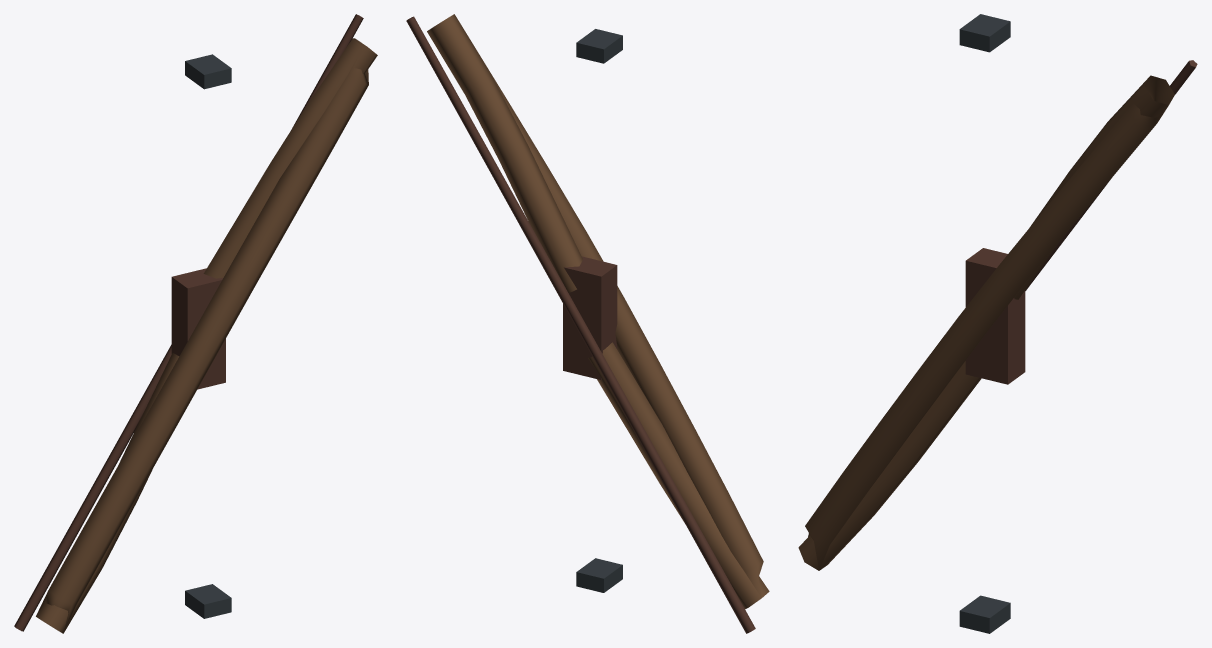
File: longbow.glb
3 views of the same model, side by side, from view 1: azimuth 30°, elevation 25°; view 2: azimuth 150°, elevation 25°; view 3: azimuth 330°, elevation 25° (orthographic). The views are drawn at different scales.
Parts seen in each view (by area): view 1: longbow-limb, longbow-string, longbow-grip-wrap, longbow-upper-nock, longbow-lower-nock; view 2: longbow-limb, longbow-string, longbow-grip-wrap, longbow-upper-nock, longbow-lower-nock; view 3: longbow-limb, longbow-grip-wrap, longbow-upper-nock, longbow-lower-nock, longbow-string.
Boxes of the visible parts, left/top/right/bottom form: longbow-limb: left=36, top=38, right=377, bottom=633; longbow-string: left=14, top=14, right=363, bottom=631; longbow-grip-wrap: left=171, top=268, right=225, bottom=389; longbow-upper-nock: left=185, top=54, right=231, bottom=89; longbow-lower-nock: left=185, top=584, right=231, bottom=618; longbow-limb: left=427, top=14, right=769, bottom=609; longbow-string: left=406, top=16, right=755, bottom=633; longbow-grip-wrap: left=563, top=256, right=617, bottom=379; longbow-upper-nock: left=576, top=29, right=622, bottom=63; longbow-lower-nock: left=576, top=558, right=622, bottom=592; longbow-limb: left=798, top=75, right=1174, bottom=570; longbow-grip-wrap: left=965, top=248, right=1025, bottom=384; longbow-upper-nock: left=959, top=14, right=1010, bottom=52; longbow-lower-nock: left=959, top=595, right=1010, bottom=633; longbow-string: left=1025, top=60, right=1197, bottom=290.
Size of the model in its own units: 0.6329 by 0.945 by 0.108.
